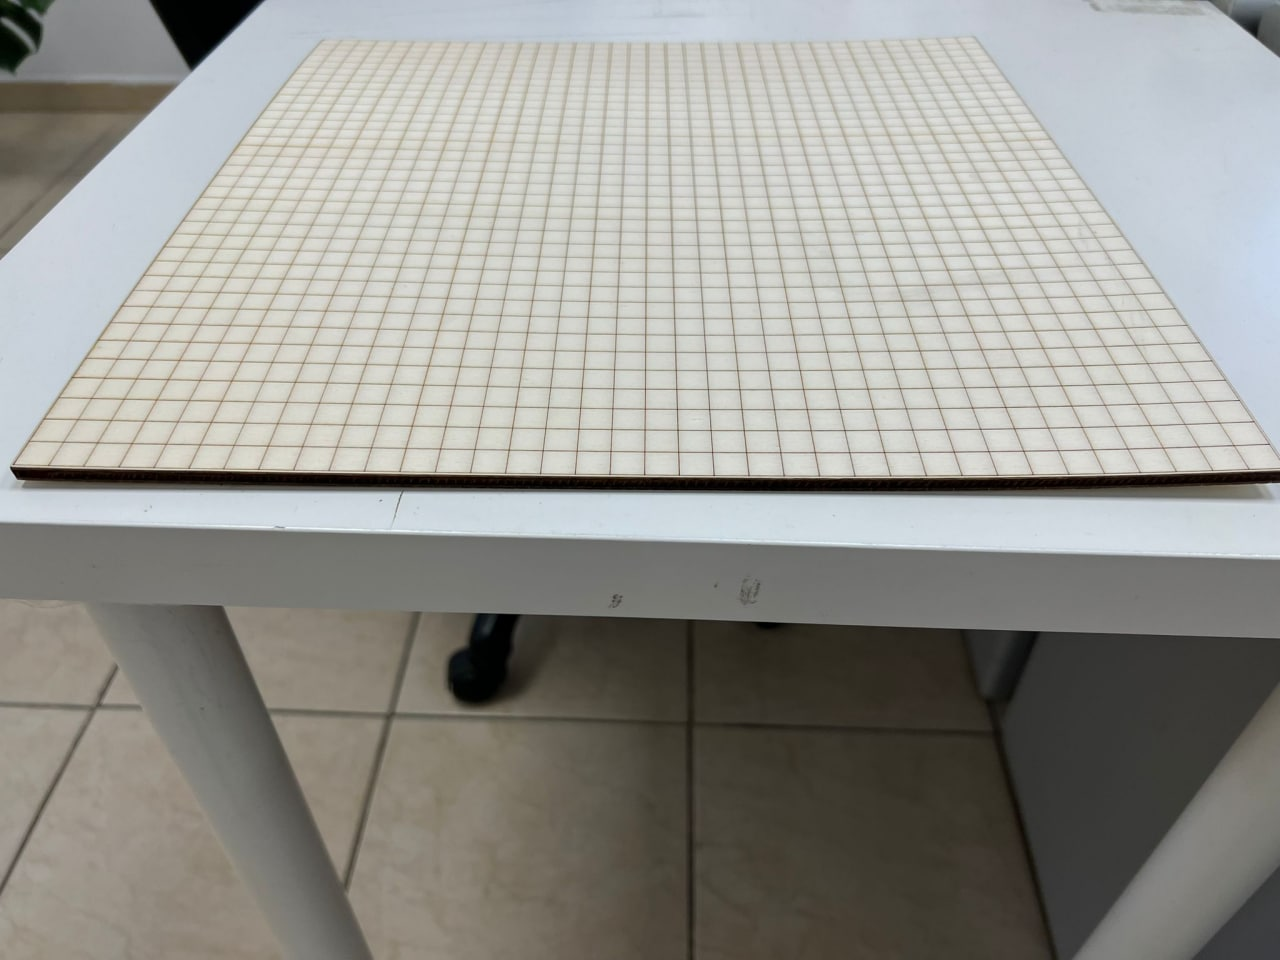grid: (5, 21, 1280, 536)
